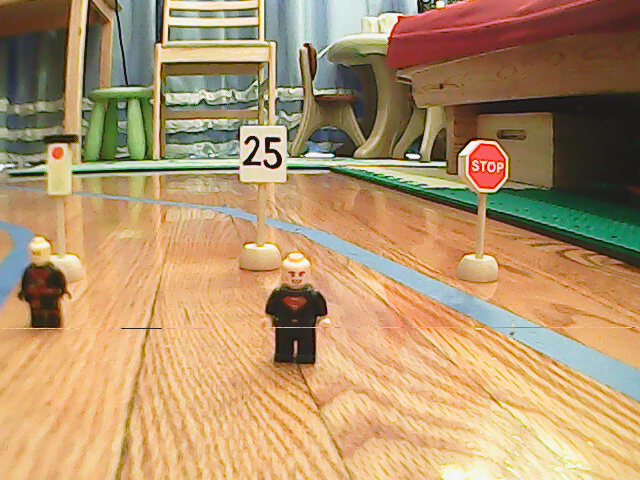Person: (265, 254, 331, 369), (20, 235, 71, 329)
Red Traffic Light: (42, 135, 76, 201)
Speed Limit 25: (239, 125, 289, 183)
Stop Sign: (459, 138, 512, 196)
